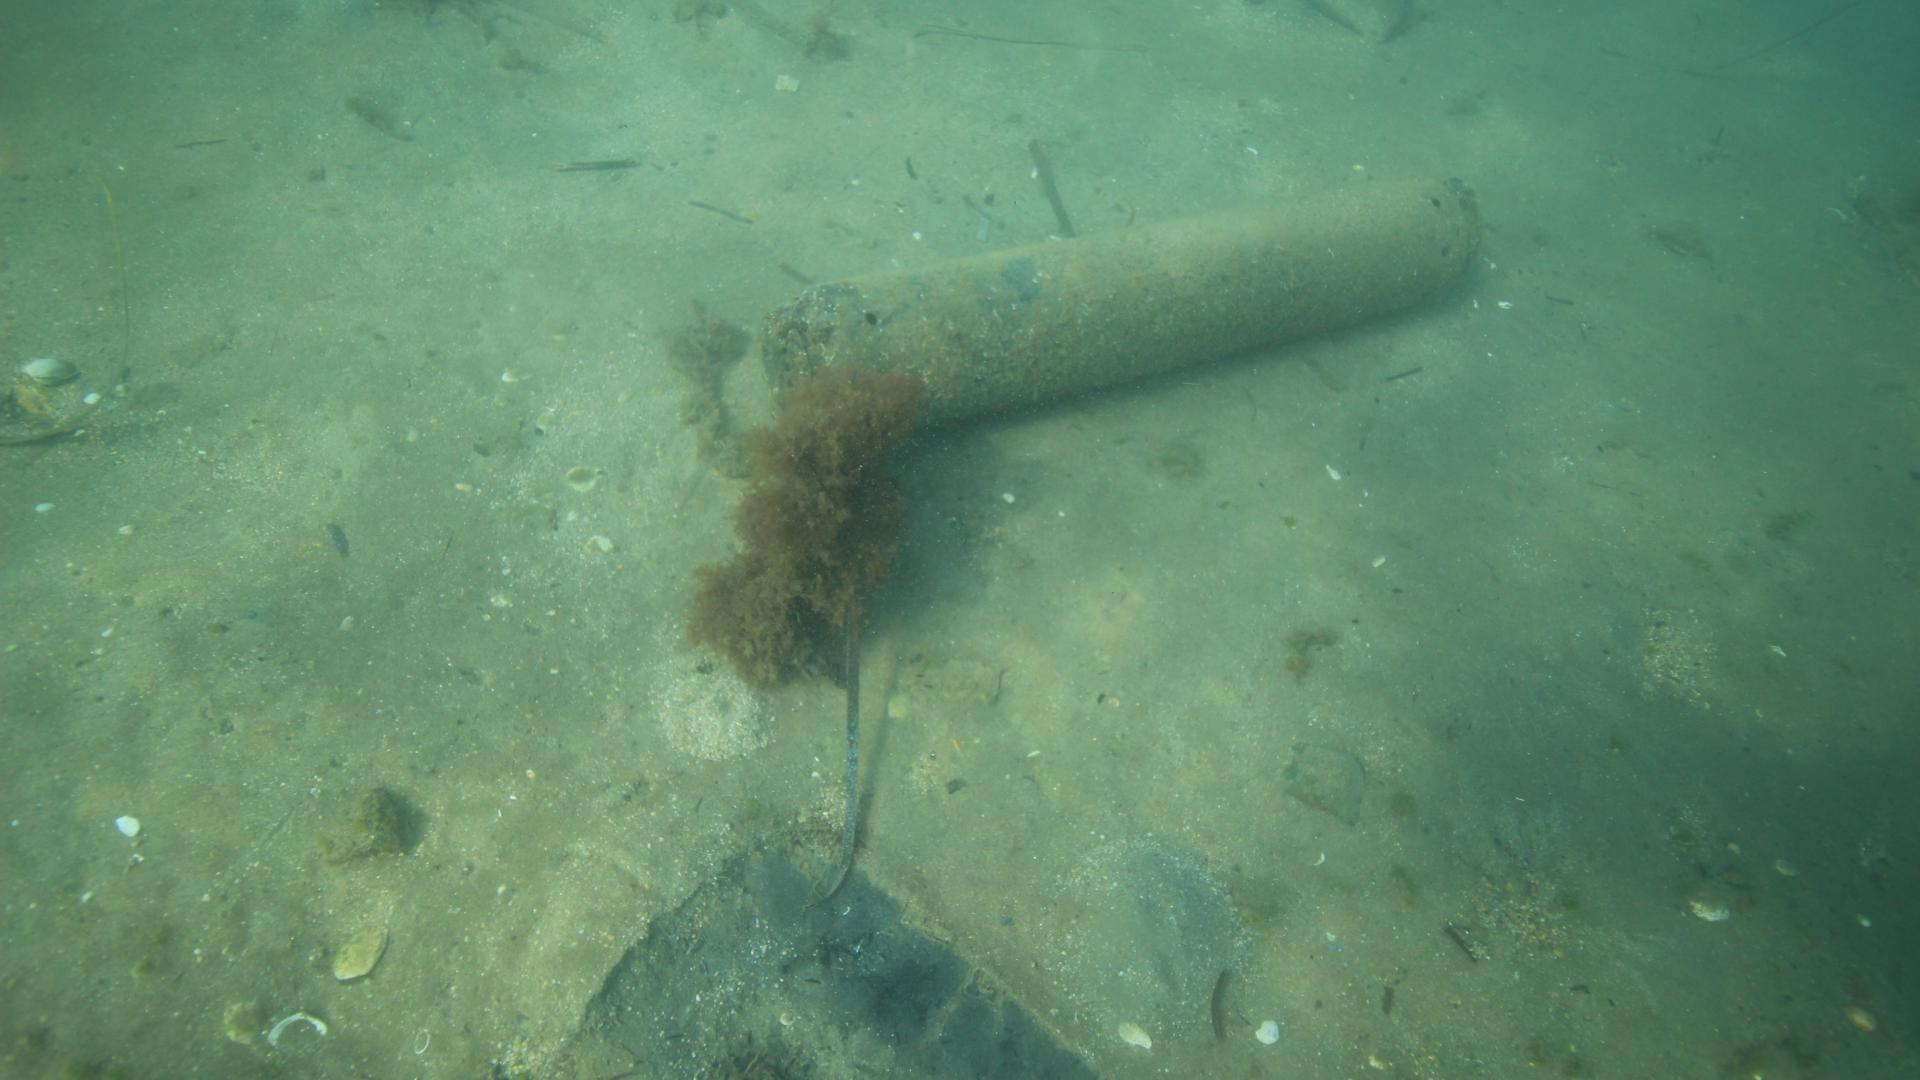eel fish trap: (760, 175, 1485, 442)
